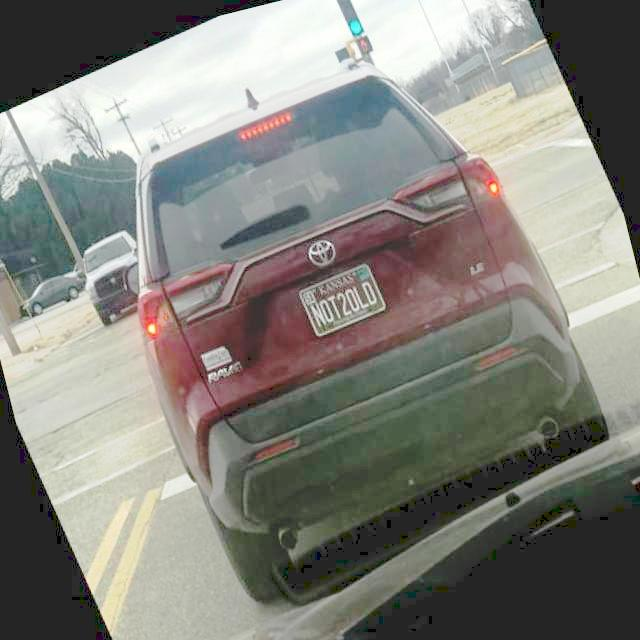license_plate: (300, 264, 387, 338)
